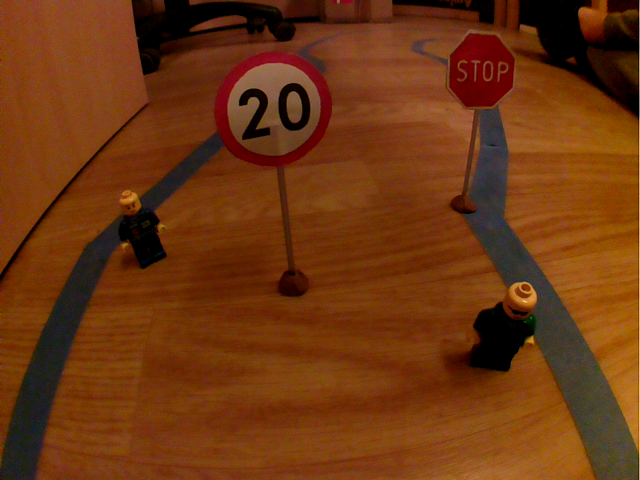Ograniczenie 20: (211, 46, 339, 172)
Postac LEGO: (460, 270, 545, 378), (110, 187, 177, 273)
Stop: (438, 25, 520, 113)
